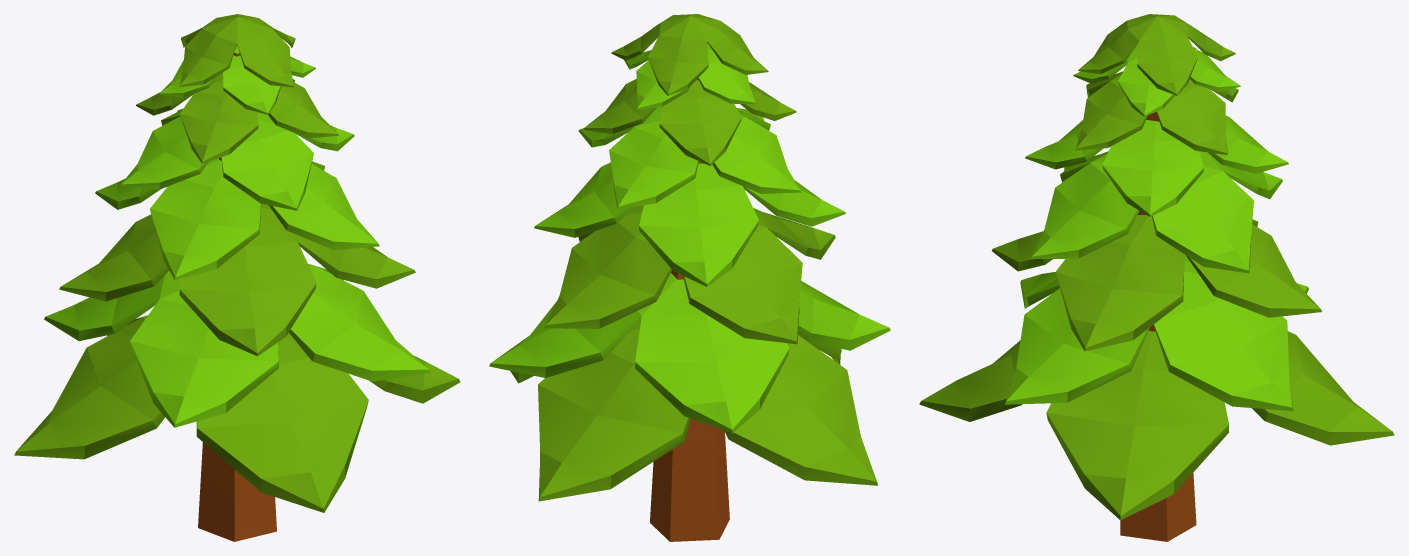
File: Tree_01_Spring.fbx
3 renders of one model, left to right at view 1: azimuth 30°, elevation 25°; view 2: azimuth 150°, elevation 25°; view 3: azimuth 270°, elevation 25°, orthographic.
Visible parts, largest first — view 1: Tree_01_p2_Spring, Tree_01_p1_Spring; view 2: Tree_01_p2_Spring, Tree_01_p1_Spring; view 3: Tree_01_p2_Spring, Tree_01_p1_Spring.
Boxes of the visible parts, <box> form: Tree_01_p2_Spring: <box>14,14,460,512</box>; Tree_01_p1_Spring: <box>198,44,276,541</box>; Tree_01_p2_Spring: <box>489,14,890,501</box>; Tree_01_p1_Spring: <box>650,79,729,541</box>; Tree_01_p2_Spring: <box>919,14,1394,520</box>; Tree_01_p1_Spring: <box>1120,112,1196,541</box>.
Size of the model in its own units: 305 by 360 by 305.
